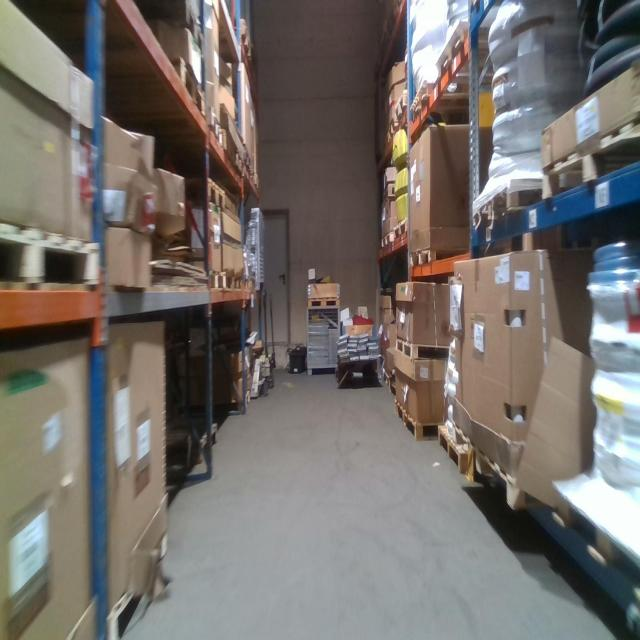pallet: (541, 121, 639, 198), (1, 219, 102, 290), (468, 440, 543, 514), (472, 180, 542, 227), (166, 56, 205, 121), (394, 398, 448, 441), (436, 422, 471, 481), (436, 19, 469, 78), (181, 174, 228, 209), (172, 427, 218, 461), (396, 338, 455, 364), (410, 77, 435, 121), (409, 250, 466, 267), (207, 107, 228, 153), (394, 88, 410, 127), (306, 296, 341, 312), (203, 271, 228, 291), (381, 183, 398, 207), (395, 216, 409, 245), (380, 231, 396, 253), (232, 151, 244, 178), (385, 119, 395, 150), (226, 273, 236, 292), (236, 276, 245, 292)
pallet_truck: (245, 287, 275, 401), (265, 283, 283, 380)
